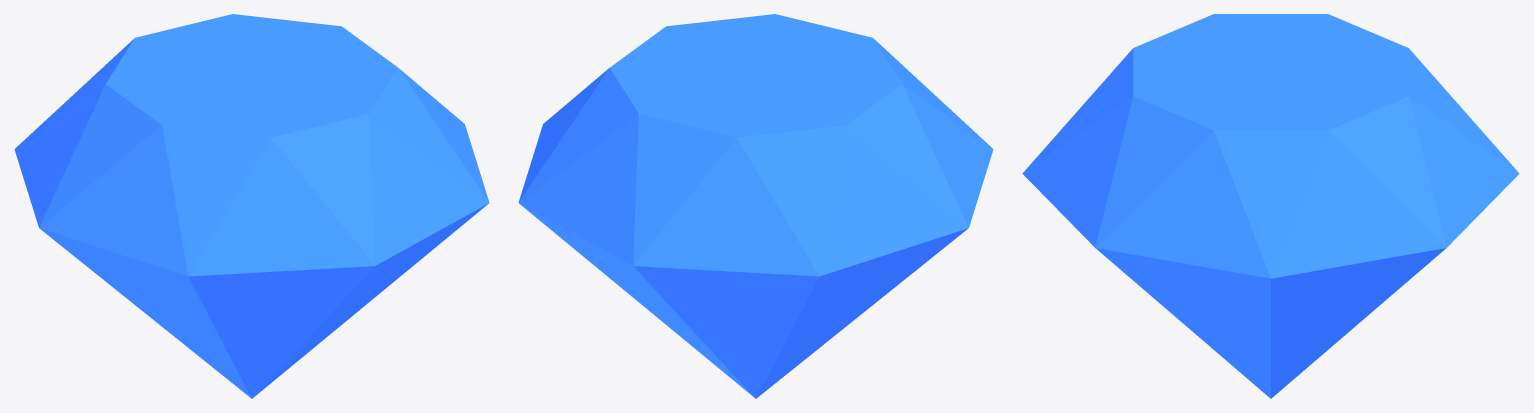
The model's file is gem_sapphire_regular.glb.
3 views of the same model, side by side, from view 1: azimuth 30°, elevation 25°; view 2: azimuth 150°, elevation 25°; view 3: azimuth 270°, elevation 25° (orthographic).
Parts seen in each view (by area): view 1: gem_sapphire_3; view 2: gem_sapphire_3; view 3: gem_sapphire_3.
Part boxes in pixels (<box>): gem_sapphire_3: <box>14,14,489,398</box>; gem_sapphire_3: <box>518,14,993,398</box>; gem_sapphire_3: <box>1022,14,1519,398</box>.
Bounding box in the file's own units: 0.09 × 0.0653 × 0.09.
